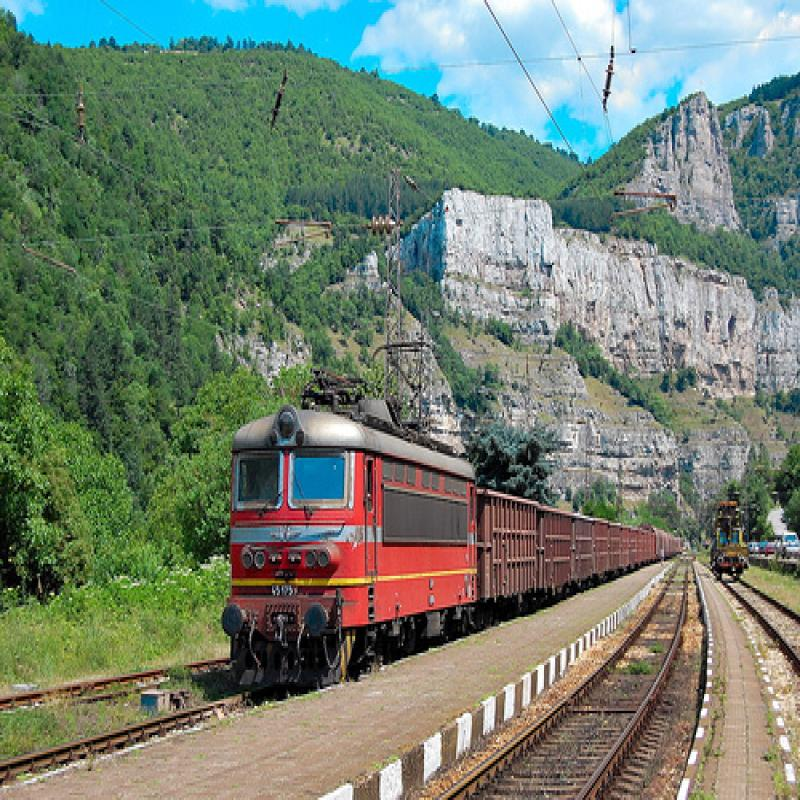train: (223, 404, 686, 703), (712, 505, 752, 582)
